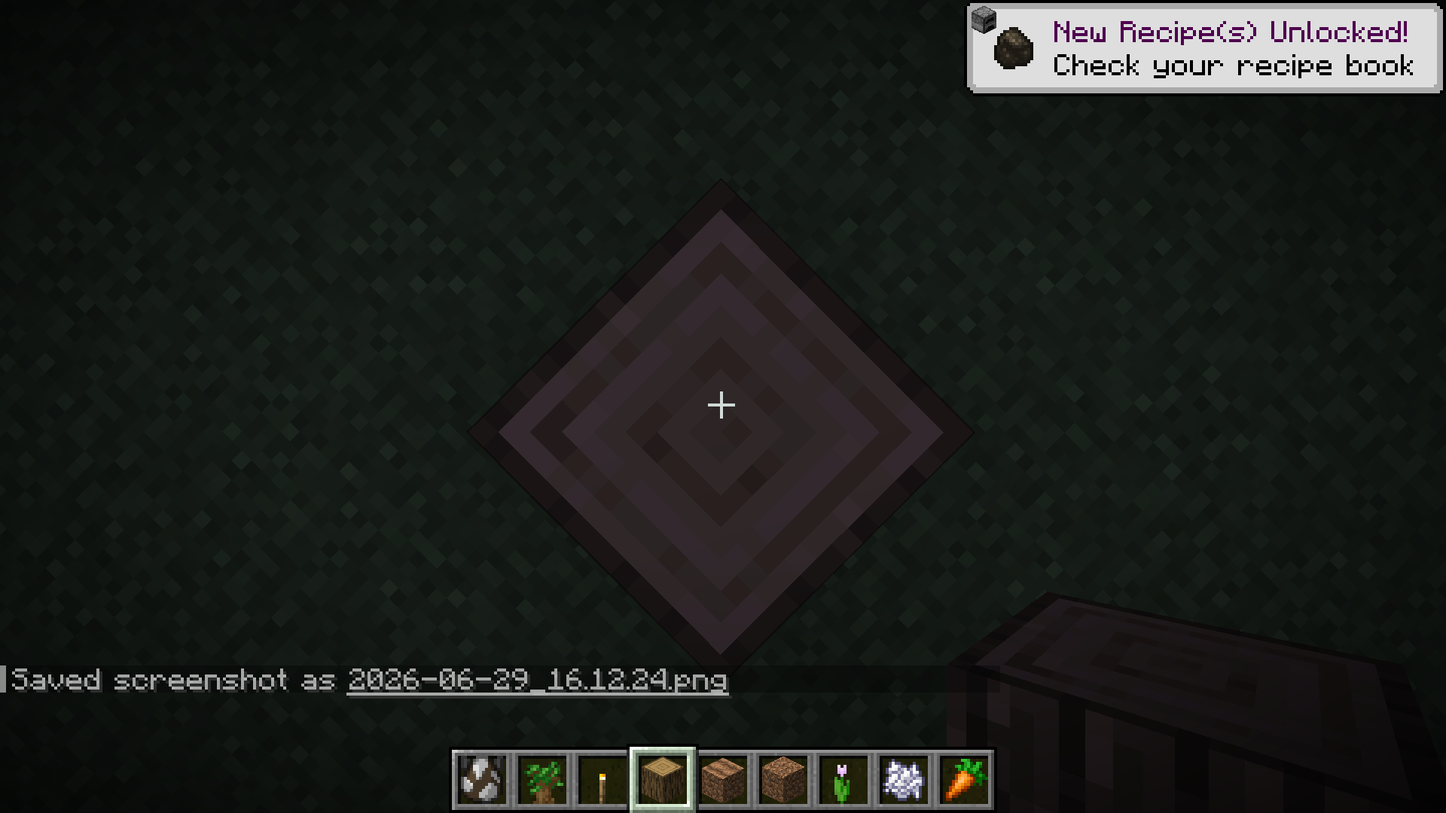wood: (480, 182, 969, 680)
